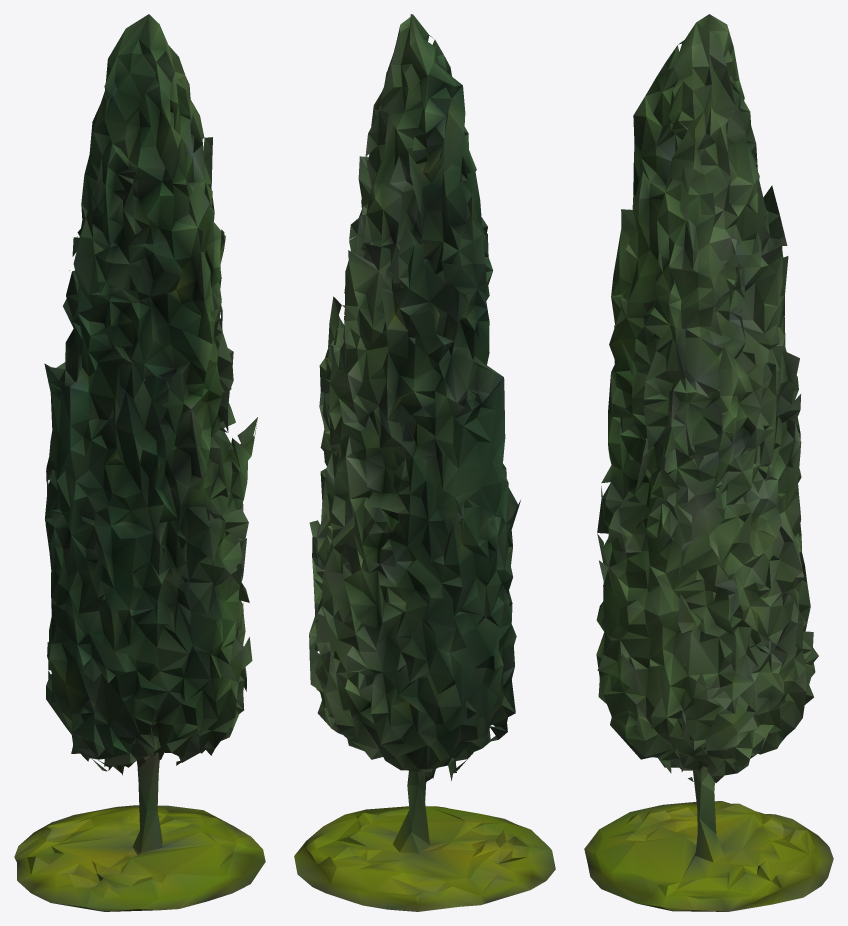
File: lib_tp_topiary.vc.glb
The picture shows the model from 3 angles, left to right: view 1: azimuth 30°, elevation 25°; view 2: azimuth 150°, elevation 25°; view 3: azimuth 270°, elevation 25°; orthographic projection.
Visible parts, largest first — view 1: lib_tp_topiary; view 2: lib_tp_topiary; view 3: lib_tp_topiary.
Boxes of the visible parts, box(x1,y1,x2,y2) form: lib_tp_topiary: box(14, 14, 265, 911); lib_tp_topiary: box(294, 14, 555, 911); lib_tp_topiary: box(584, 14, 833, 911).
Bounding box in the file's own units: 0.5482 × 2 × 0.5287.
